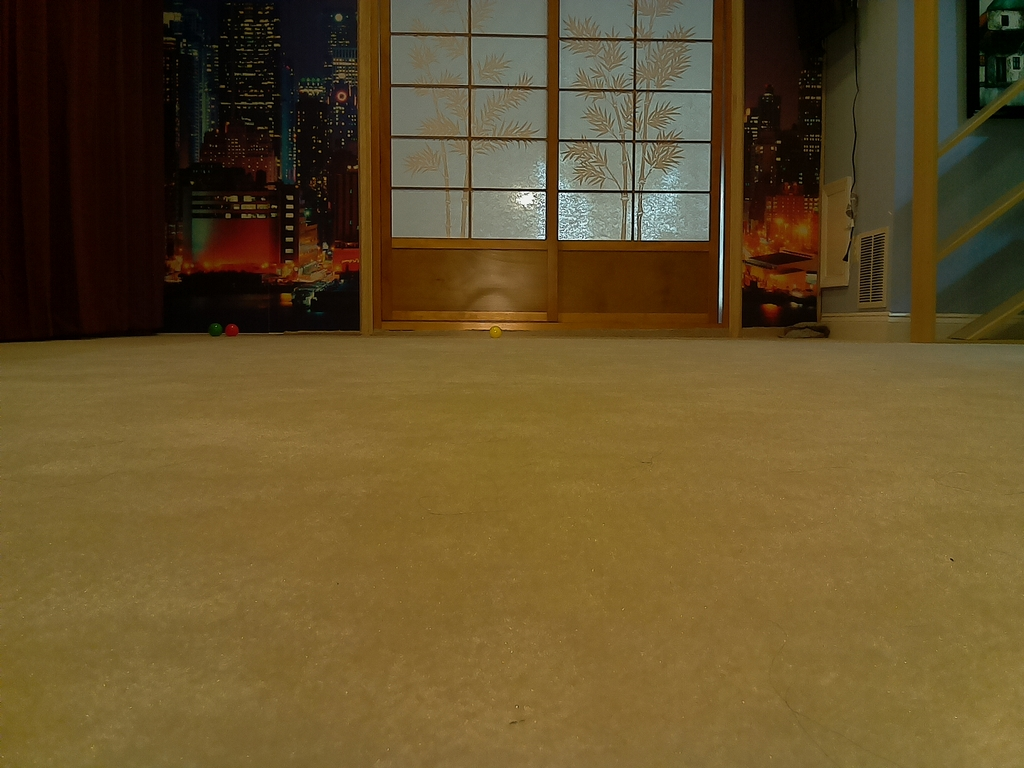ball: (228, 322, 240, 335)
